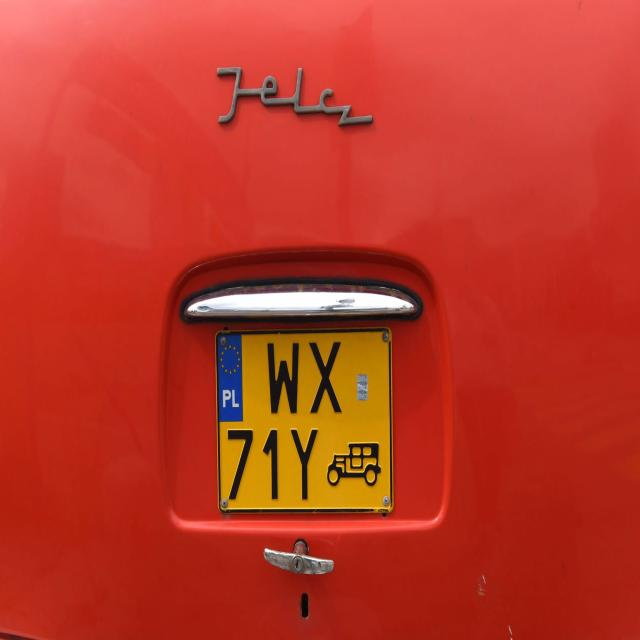pl_license_plate: (216, 331, 392, 511)
